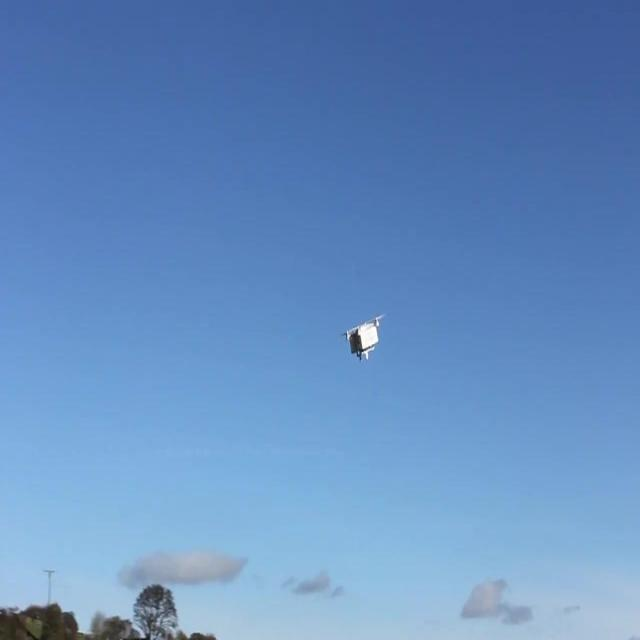drone: (339, 311, 388, 364)
